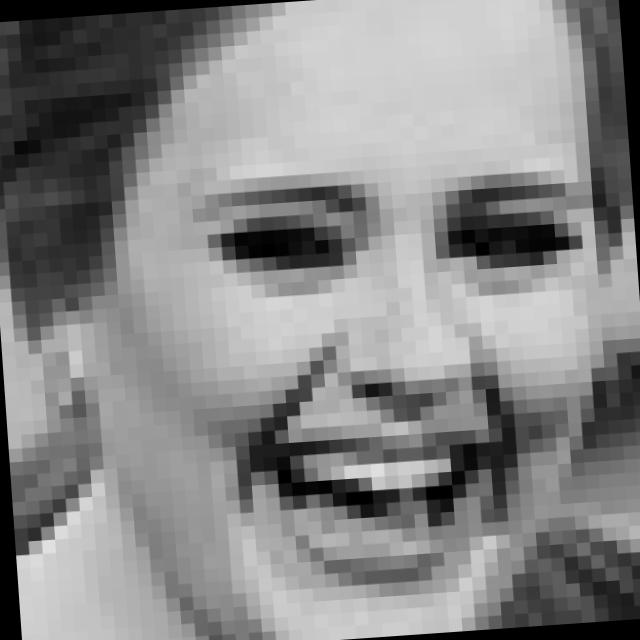happy: (172, 148, 622, 617)
